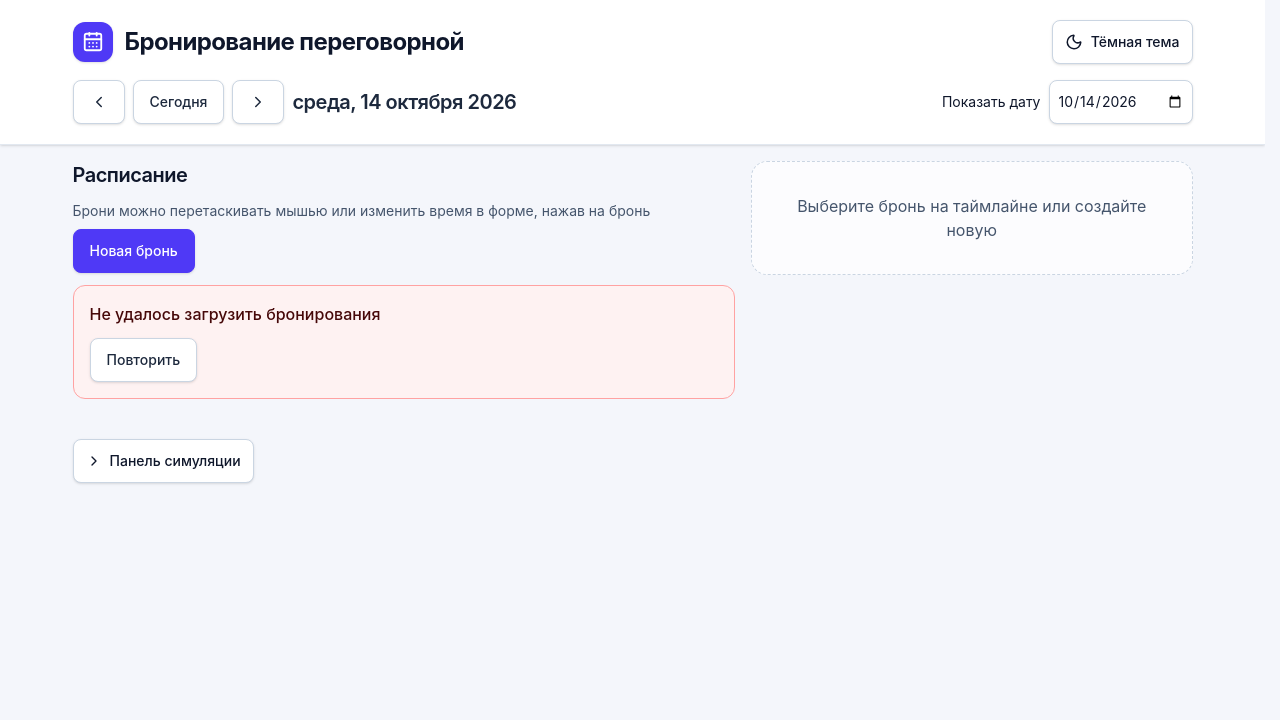
1. loading, empty, error › shows an error after two failed GETs and recovers on "Повторить"
The image size is (1280, 720).
Expected: the text "Не удалось загрузить бронирования" is shown, left=90, top=302, right=380, bottom=326
What coordinates should you click on to do the following:
click the button "Повторить"
I would click on:
 (143, 360)
Its box is left=90, top=338, right=197, bottom=382.
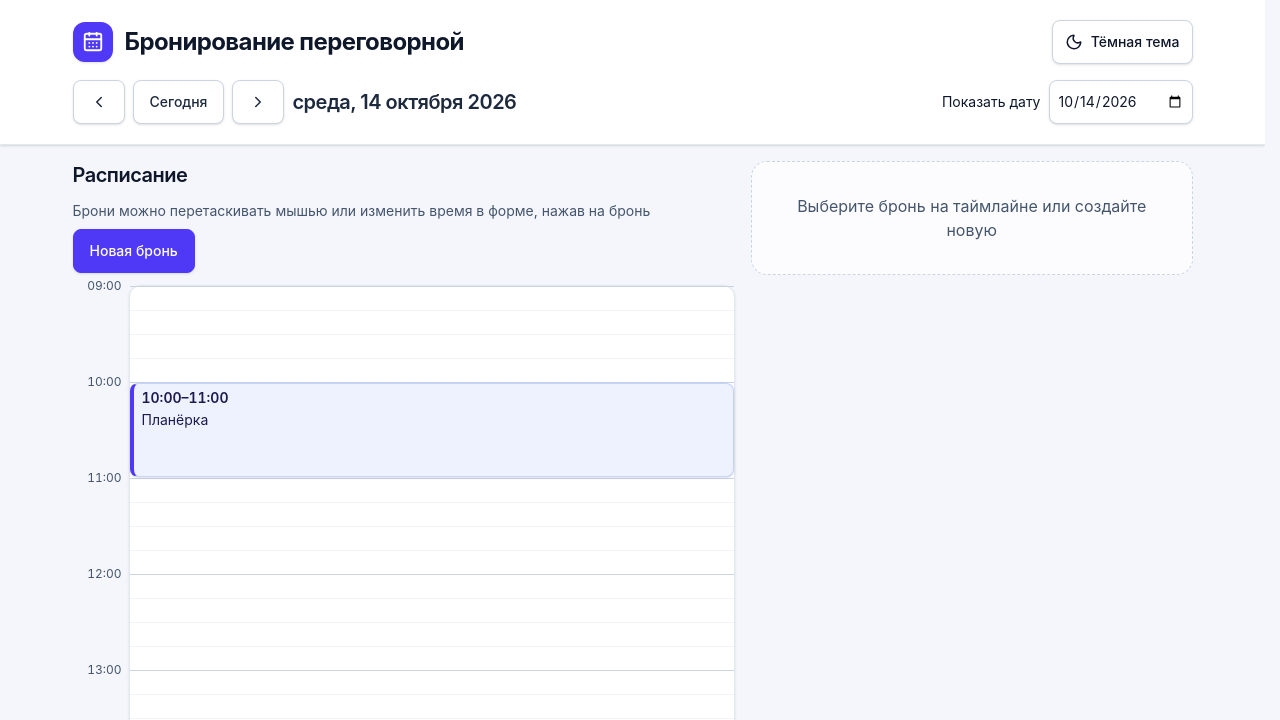
Expected: the button "10:00–11:00 Планёрка" is shown, left=130, top=383, right=734, bottom=477
